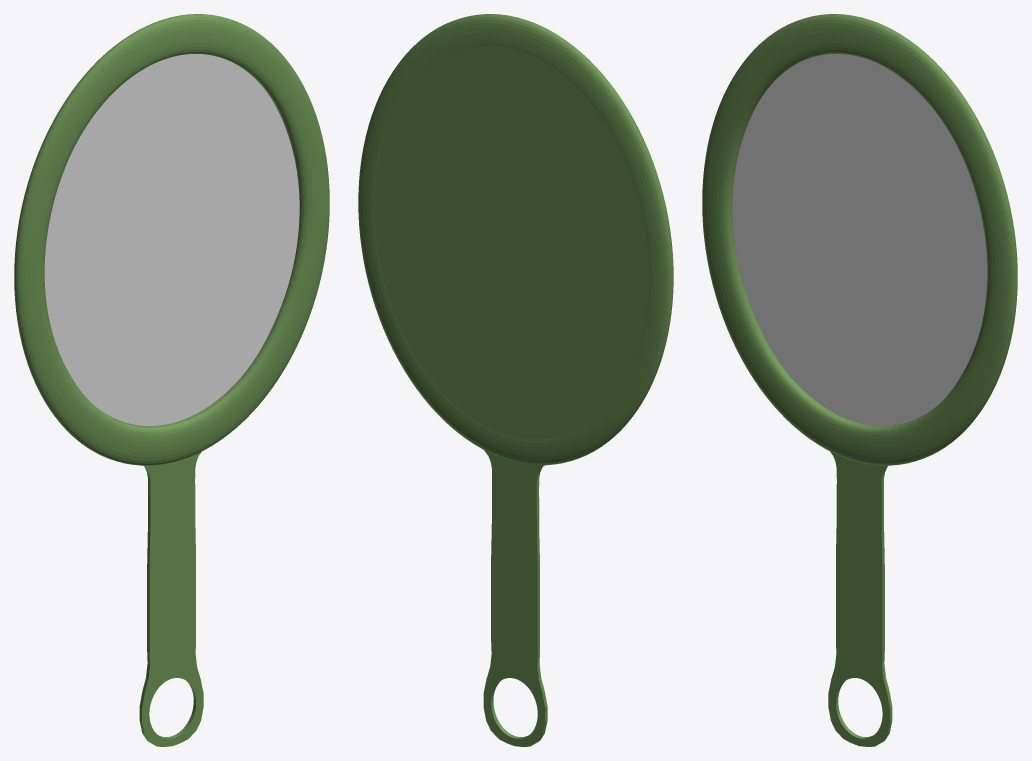
Rendered from Mirror.fbx.
3 views of the same model, side by side, from view 1: azimuth 30°, elevation 25°; view 2: azimuth 150°, elevation 25°; view 3: azimuth 330°, elevation 25° (orthographic).
Visible parts, largest first — view 1: Mirror 1; view 2: Mirror 1; view 3: Mirror 1.
Part boxes in pixels (left/top/right/bottom): Mirror 1: left=14, top=14, right=329, bottom=746; Mirror 1: left=358, top=14, right=673, bottom=746; Mirror 1: left=702, top=14, right=1017, bottom=746.
Bounding box in the file's own units: 39.61 × 87.65 × 1.74.
